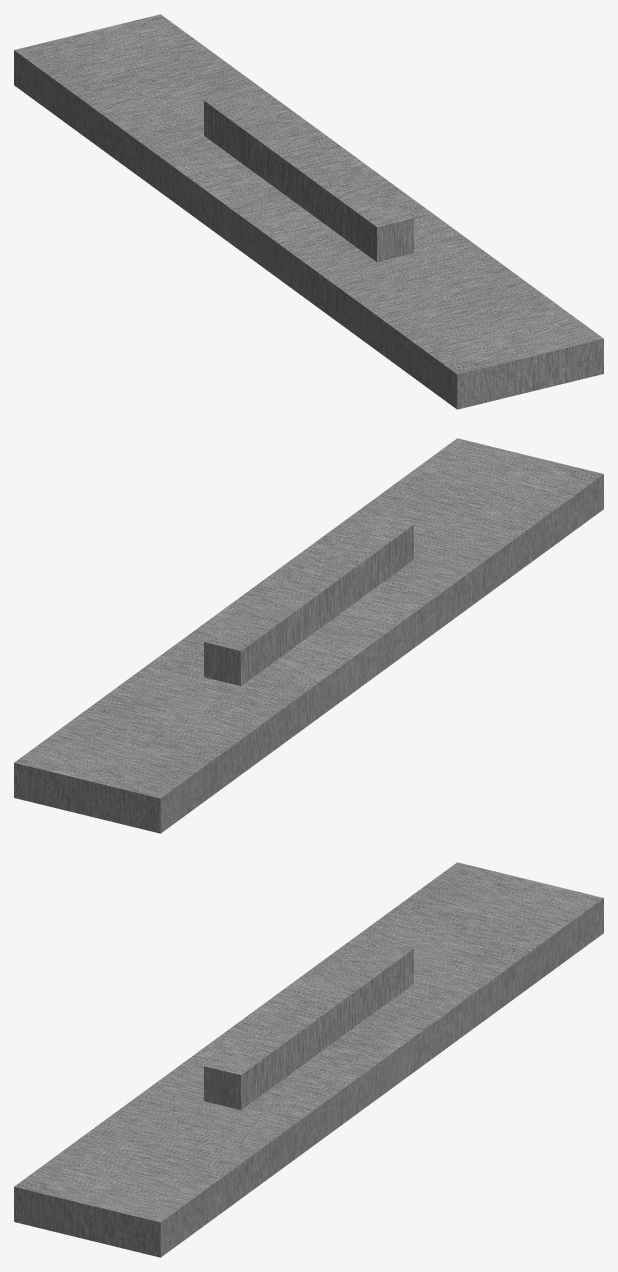
The model's file is LighLiving.fbx.
3 views of the same model, one above another, from view 1: azimuth 30°, elevation 25°; view 2: azimuth 150°, elevation 25°; view 3: azimuth 330°, elevation 25° (orthographic).
Parts seen in each view (by area): view 1: LighLiving; view 2: LighLiving; view 3: LighLiving.
Boxes of the visible parts, x1,y1,x2,y2 form: LighLiving: (14,14,603,409); LighLiving: (14,438,603,833); LighLiving: (14,862,603,1257).
Bounding box in the file's own units: 46.59 × 21.33 × 244.
Materials: 1 (1 with a texture image).
